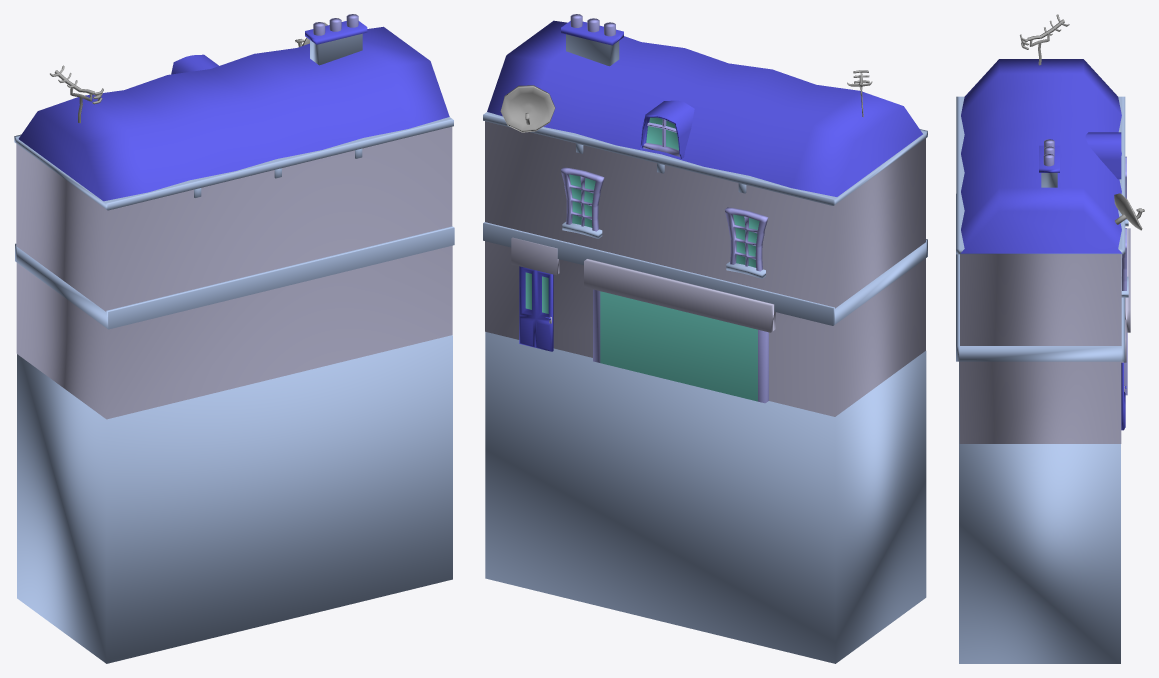
File: Building_A_Test_3.fbx
The picture shows the model from 3 angles, left to right: view 1: azimuth 30°, elevation 25°; view 2: azimuth 150°, elevation 25°; view 3: azimuth 270°, elevation 25°; orthographic projection. The views are drawn at different scales.
Parts seen in each view (by area): view 1: Building_A_Test_3; view 2: Building_A_Test_3; view 3: Building_A_Test_3.
Part boxes in pixels (x1,y1,x2,y2): Building_A_Test_3: (14, 14, 454, 663); Building_A_Test_3: (483, 14, 927, 663); Building_A_Test_3: (956, 14, 1144, 663).
Size of the model in its own units: 936 by 1416 by 488.
